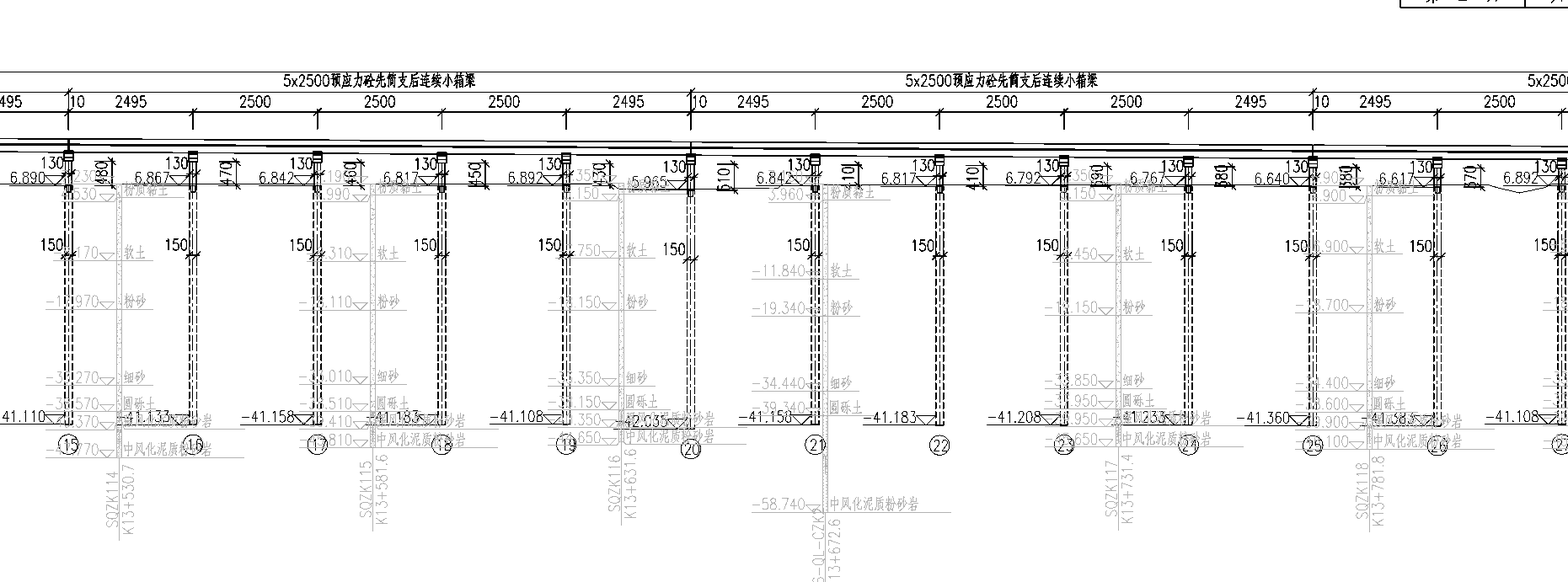B: (62, 60, 698, 104)
C: (237, 142, 340, 462), (982, 147, 1086, 461), (488, 145, 590, 460), (1235, 148, 1336, 461), (116, 142, 215, 458), (863, 147, 962, 462), (366, 145, 463, 462), (1366, 149, 1458, 462), (0, 140, 89, 462), (1118, 149, 1209, 461), (747, 147, 836, 459), (626, 147, 711, 467), (1485, 150, 1567, 464), (1537, 151, 1567, 463)
